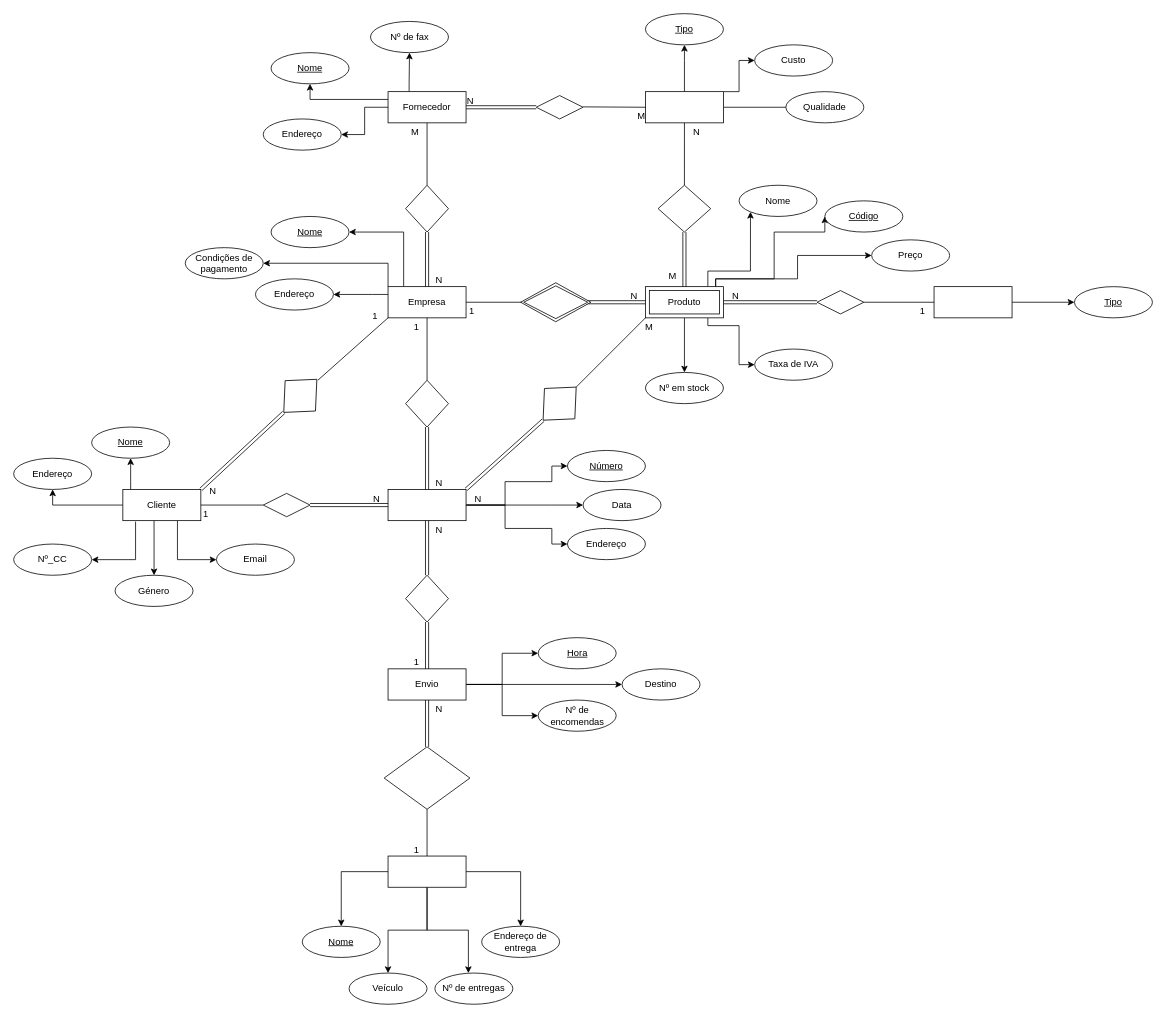
This 1166x1018 diagram has some shape labels left out. Each missing label, with the centre of its shape:
adquire: the point at 559,107
Categoria: the point at 972,302
Encomenda: the point at 426,505
fabrica: the point at 555,302
faz: the point at 286,505
faz_parte: the point at 684,208
fornece: the point at 426,208
Matéria Prima: the point at 684,107
pertence: the point at 840,302
possui: the point at 559,403
precisa: the point at 426,598
prepara: the point at 426,403
processado_por: the point at 426,777
tem: the point at 300,395
Transportadora: the point at 426,871
